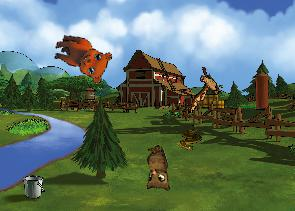bear: (48, 32, 114, 85)
eagle: (187, 66, 223, 113)
owl: (134, 143, 175, 196)
